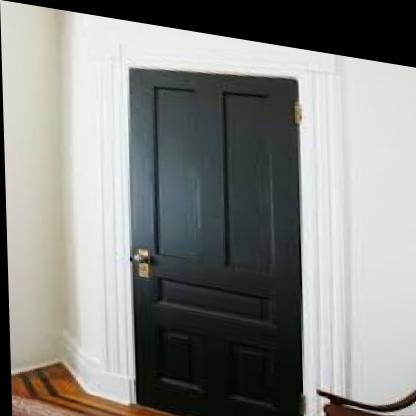door: (121, 64, 307, 415)
